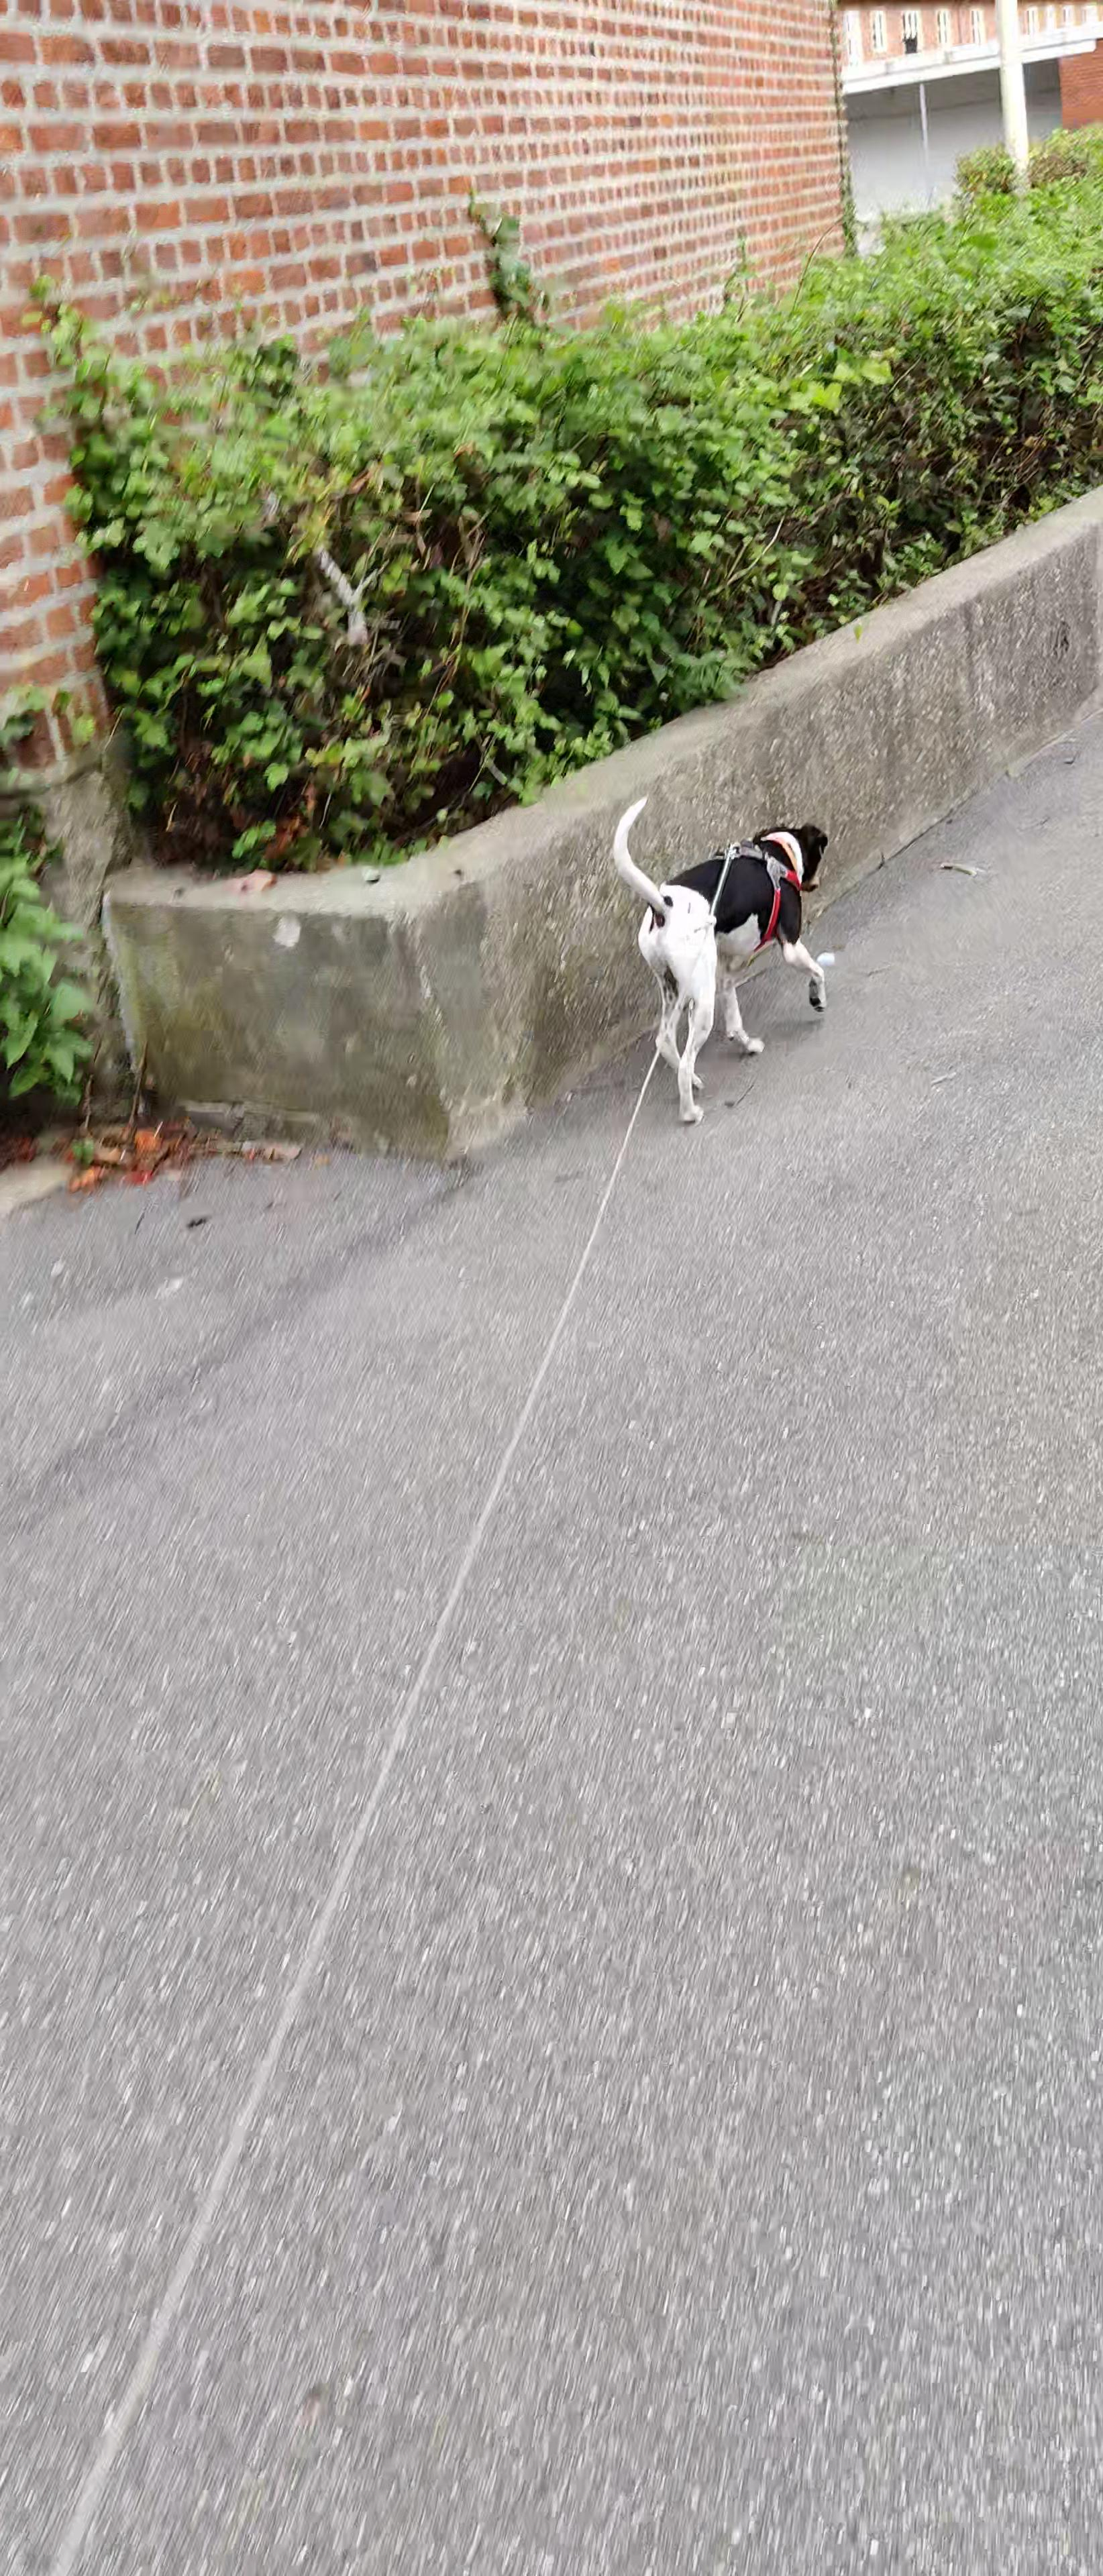Dog: (607, 792, 838, 1124)
